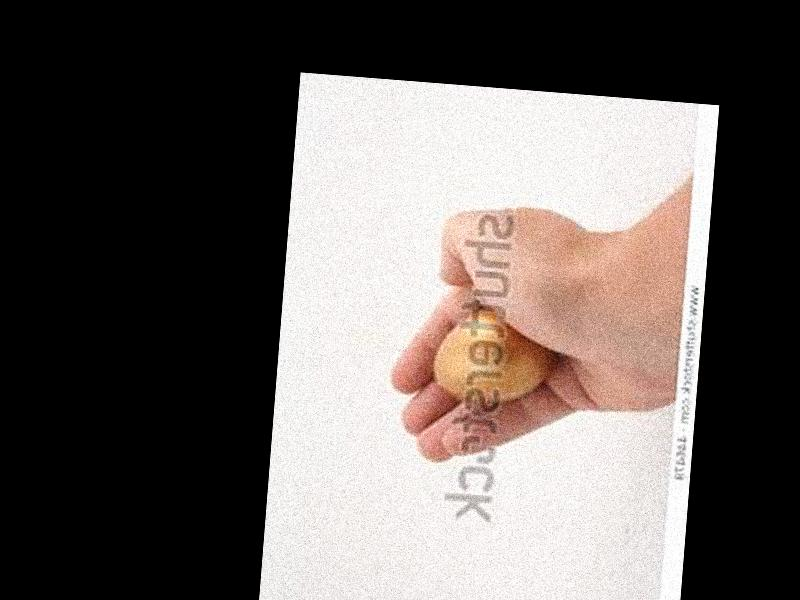Eggs: (432, 310, 552, 406)
